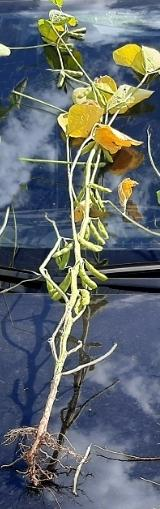soja: (51, 265, 86, 303), (80, 258, 107, 283), (76, 238, 107, 257), (76, 266, 98, 291), (91, 222, 110, 249), (51, 240, 75, 258), (63, 63, 87, 80), (98, 217, 115, 240), (90, 182, 115, 196), (73, 84, 95, 99), (104, 145, 119, 167), (79, 289, 94, 309), (61, 248, 73, 271), (41, 281, 54, 298), (70, 25, 91, 35), (51, 257, 66, 271), (54, 71, 66, 87), (65, 32, 88, 39), (81, 226, 91, 242)
